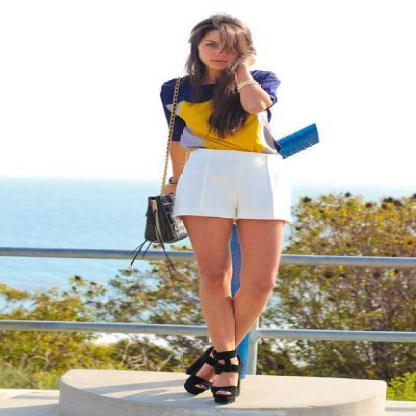bag: (146, 124, 318, 240)
shirt: (160, 70, 283, 153)
shoe: (184, 346, 242, 404)
shorts: (172, 148, 300, 222)
